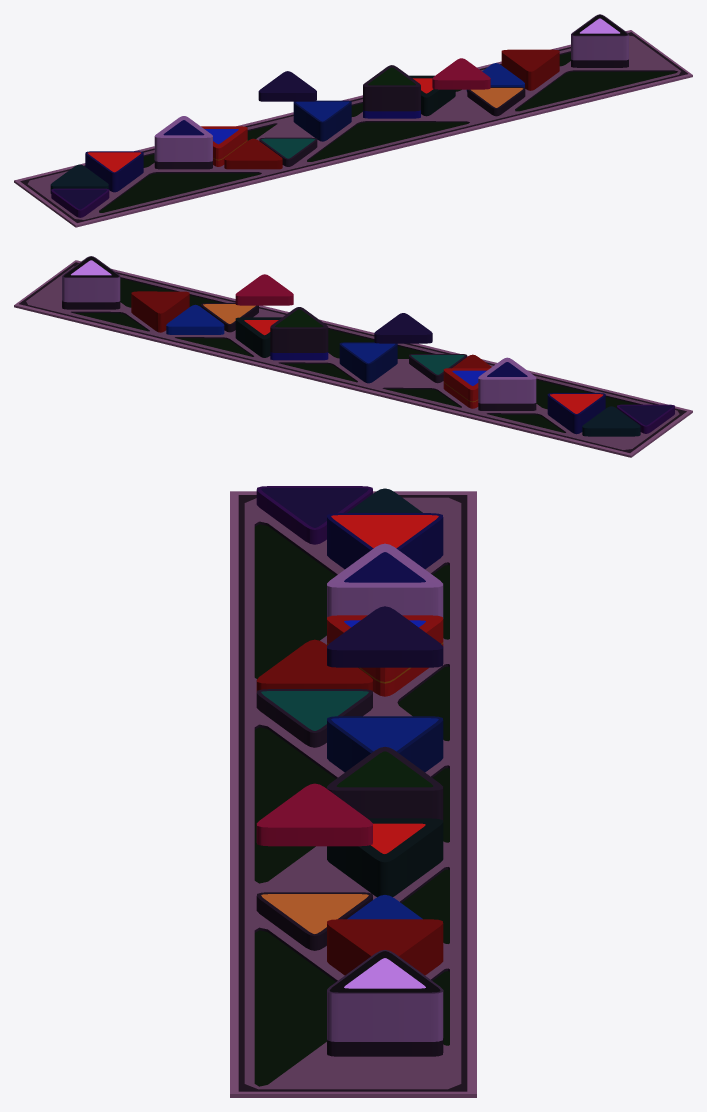
File: W_O_FootpathDecor_002_L1.fbx
3 renders of one model, top to bottom at view 1: azimuth 30°, elevation 25°; view 2: azimuth 150°, elevation 25°; view 3: azimuth 270°, elevation 25°, orthographic. The views are drawn at different scales.
Parts seen in each view (by area): view 1: W_O_FootpathDecor_002_L1; view 2: W_O_FootpathDecor_002_L1; view 3: W_O_FootpathDecor_002_L1.
Part boxes in pixels (bbox=[...]): W_O_FootpathDecor_002_L1: bbox=[14, 14, 692, 227]; W_O_FootpathDecor_002_L1: bbox=[14, 256, 692, 457]; W_O_FootpathDecor_002_L1: bbox=[230, 486, 476, 1097].
Size of the model in its own units: 19 by 1.56 by 3.29.
